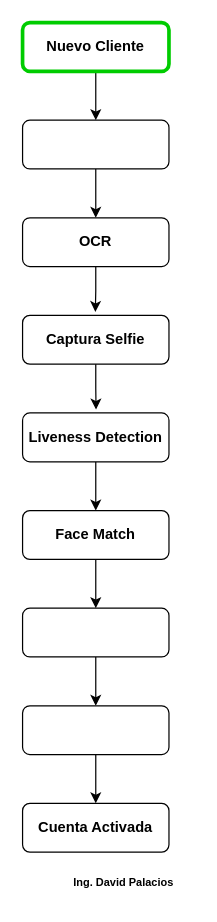
Some shapes in this 217 by 922 pixel diagram are drawn without their labels. The shapes that lost their labels are listed below. From the top down, each one's box as (x1, y1, x2, y2) in pixels, then its label:
(21, 119, 169, 169): Captura Documento
(21, 607, 169, 657): Validación AML/KYC
(21, 705, 169, 755): Creación Identidad
